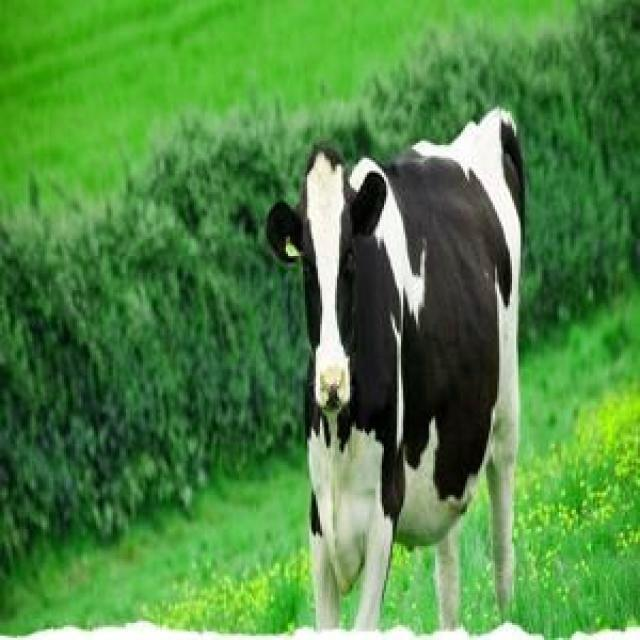cow: (268, 109, 525, 629)
